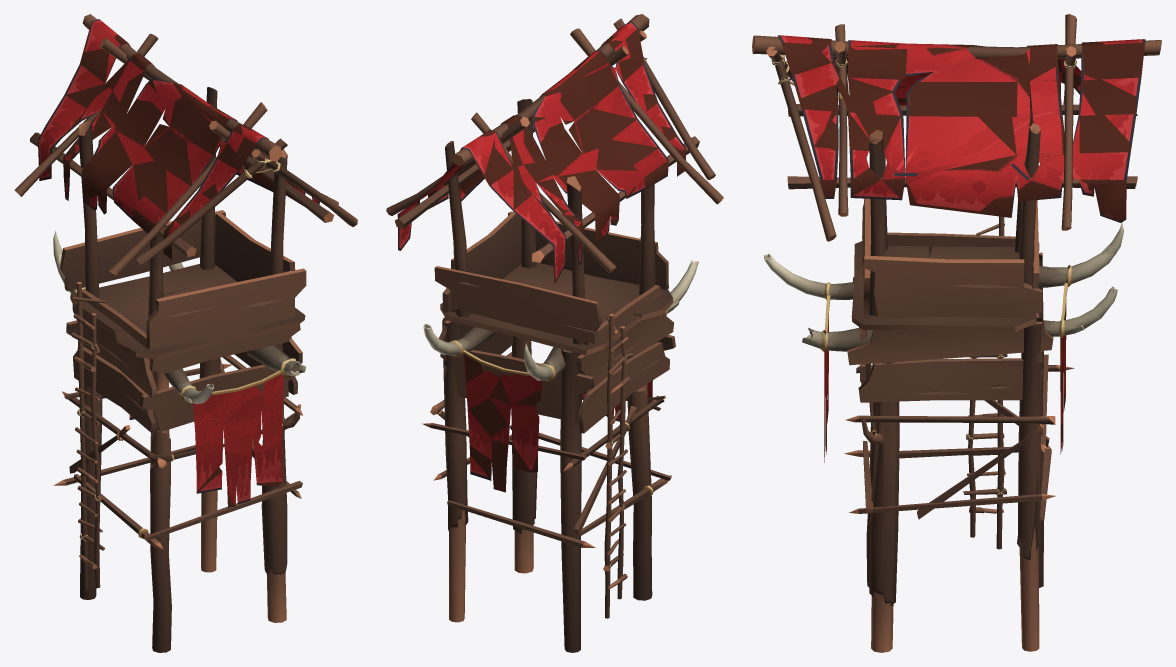
Rendered from Tower_1A.fbx.
3 views of the same model, side by side, from view 1: azimuth 30°, elevation 25°; view 2: azimuth 150°, elevation 25°; view 3: azimuth 270°, elevation 25° (orthographic). The views are drawn at different scales.
Parts seen in each view (by area): view 1: Tower_1A; view 2: Tower_1A; view 3: Tower_1A.
Part boxes in pixels (x1,y1,x2,y2): Tower_1A: (14,14,357,652); Tower_1A: (386,14,723,652); Tower_1A: (752,14,1161,652).
Bounding box in the file's own units: 6.4 × 13.7 × 8.64.
